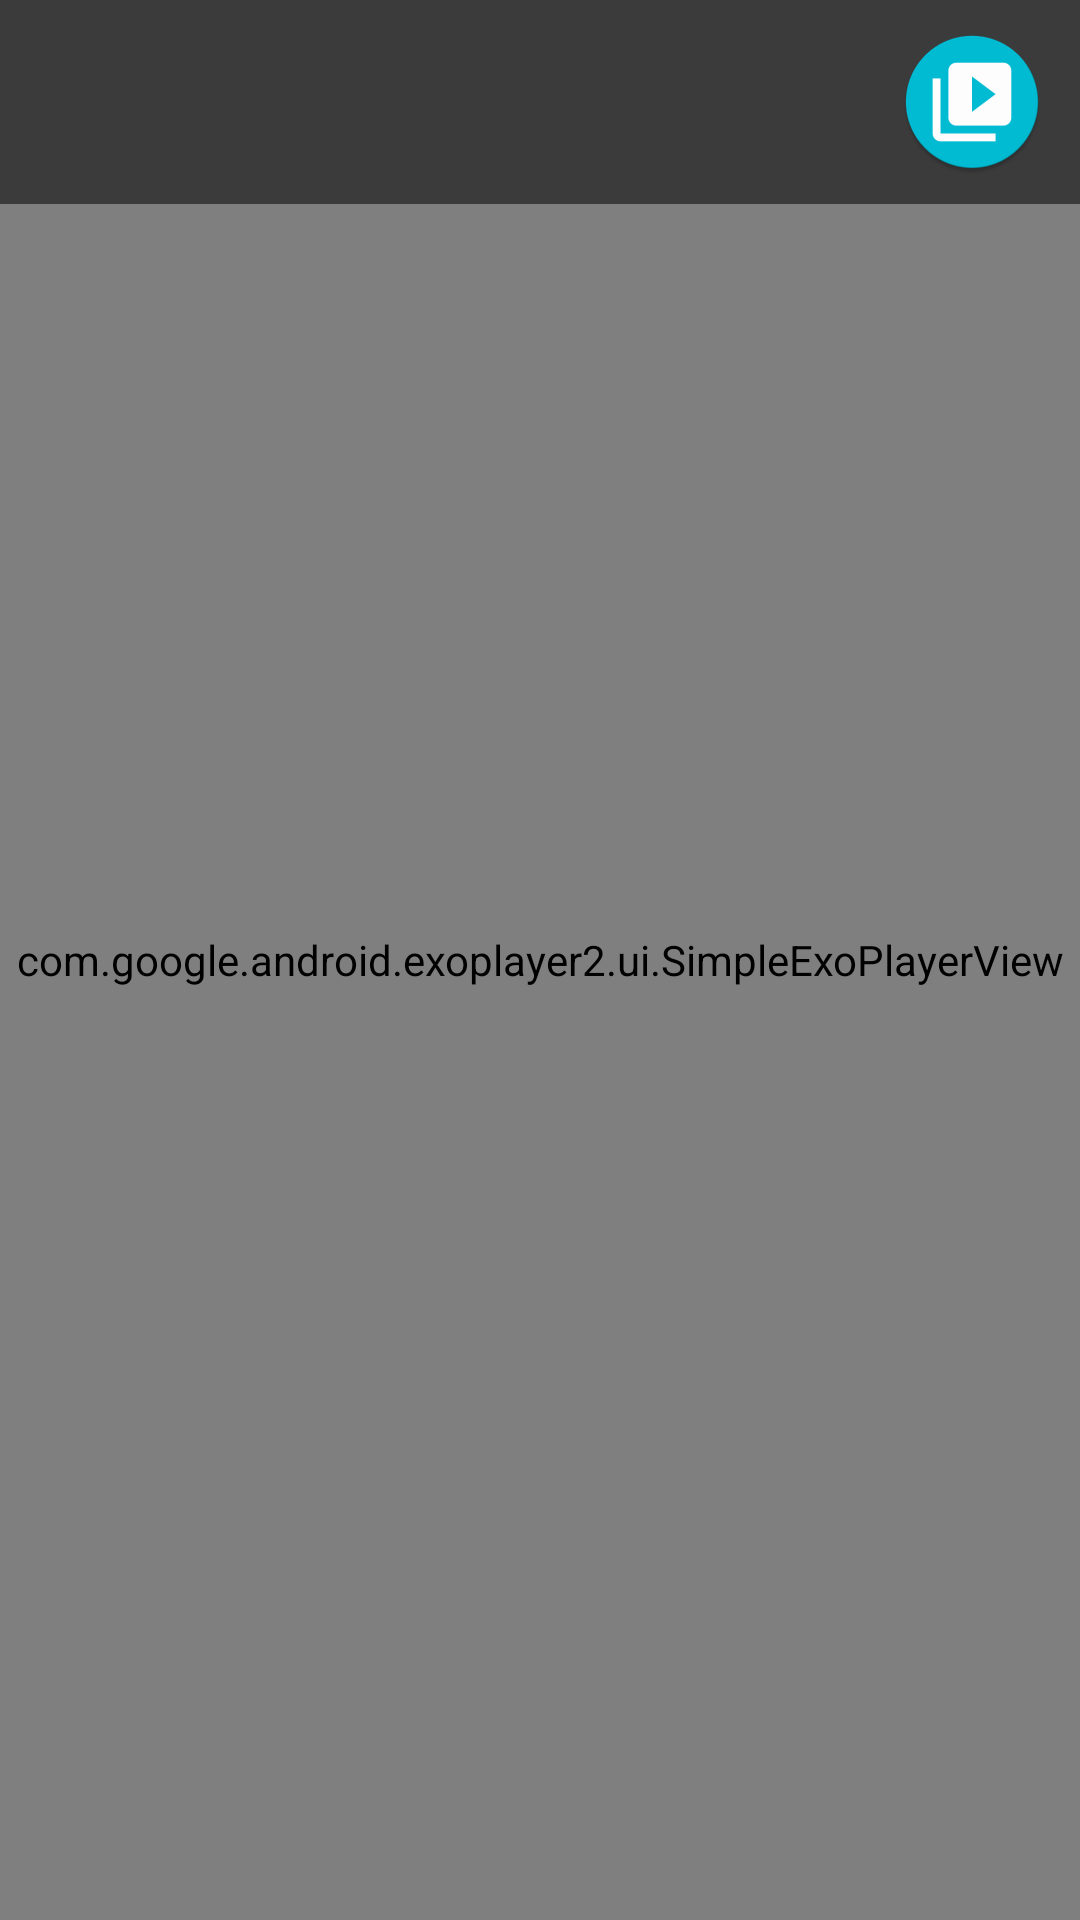

Locate icon controls on the screen. Image size 1080w x 1920h, boxes as (x1, y1, x2, y2).
choose: (906, 35, 1038, 168)
